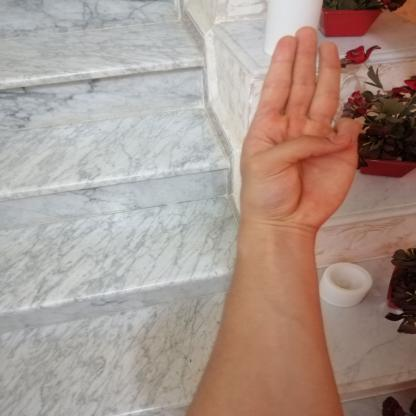THA: (218, 17, 378, 237)
